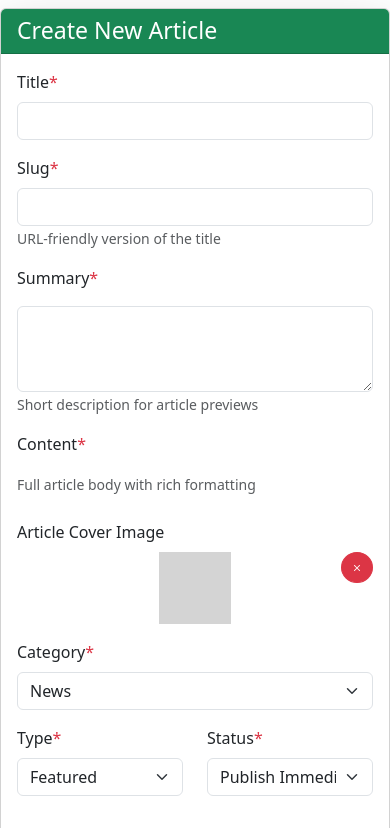
Test case: Admin/Articles/Create.vue › removeImage clears cover and thumbnail and shows the upload group
Click the button named "Remove image" at (357, 567), box [341, 552, 373, 583]
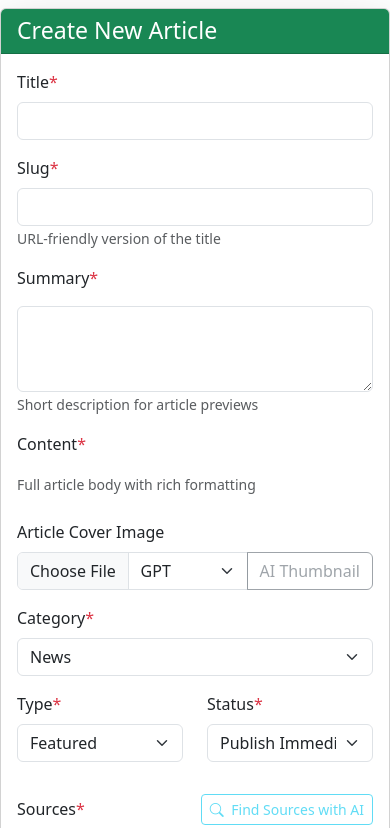
expect the file field is shown: met, box [17, 552, 129, 590]
